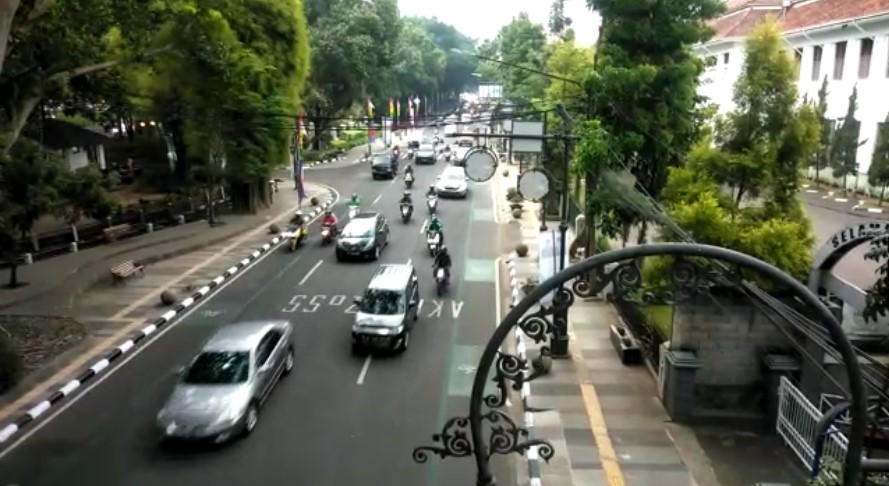mobil: (148, 314, 296, 442), (354, 262, 420, 366), (334, 216, 392, 261)
motor: (430, 250, 456, 300), (286, 210, 307, 253), (318, 207, 336, 246), (426, 218, 446, 253), (396, 192, 414, 223), (422, 185, 440, 216)
